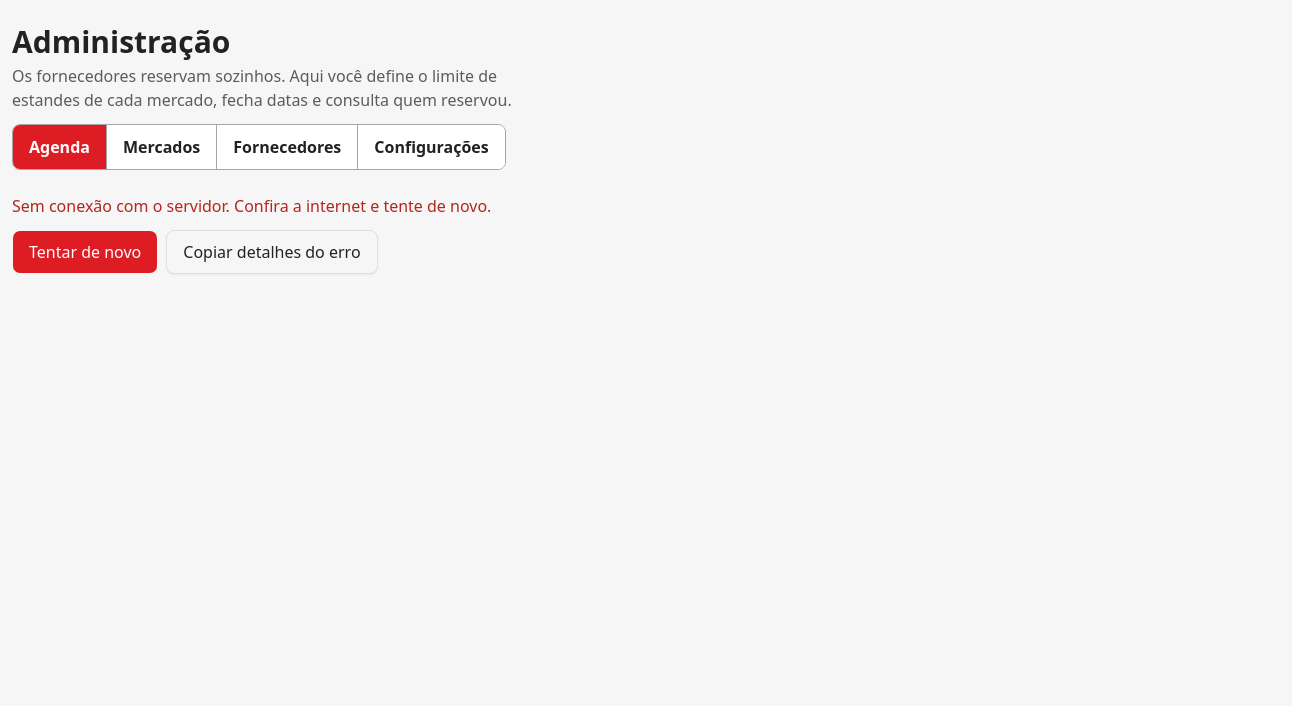
Scenario: Agenda › sem sinal mostra o erro e "Tentar de novo" recupera
Expected: the message shows "Sem conexão", [12,195,491,217]
Click the button "Tentar de novo" at [85, 252], box [12,230,158,274]
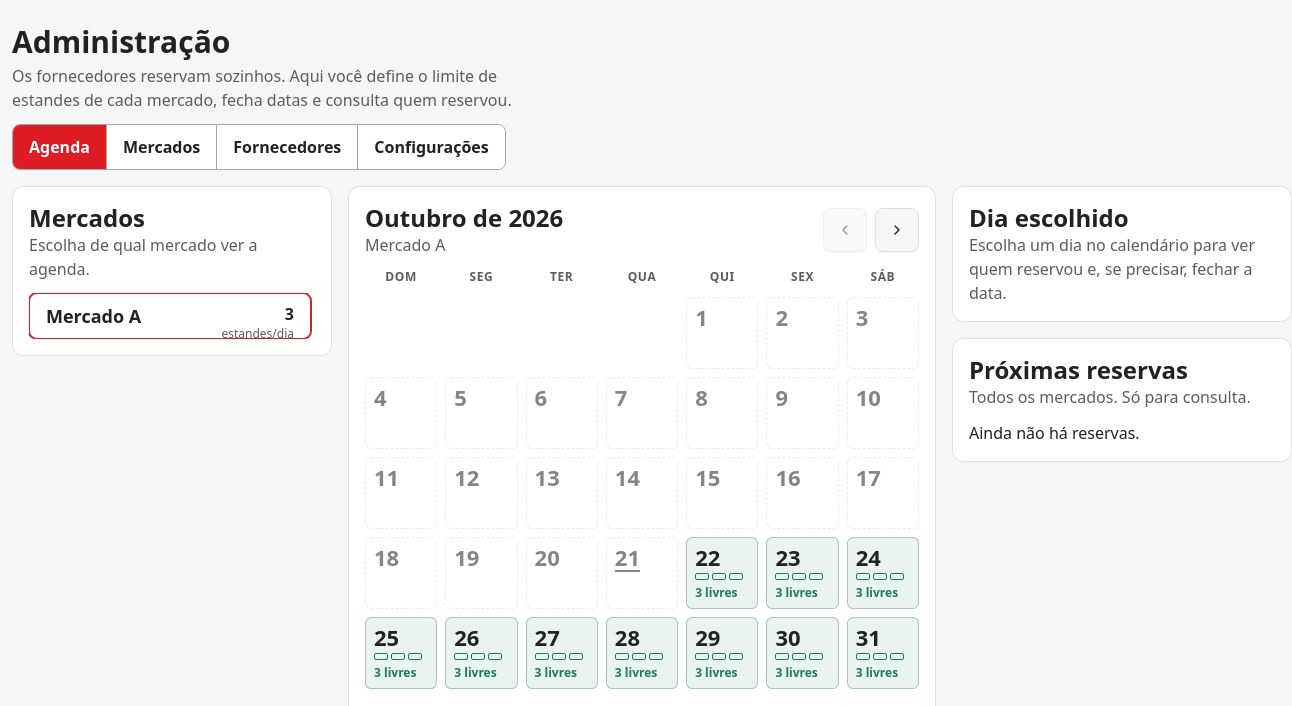
Now the heading "Outubro de 2026" is shown, box [365,203,563,233]
